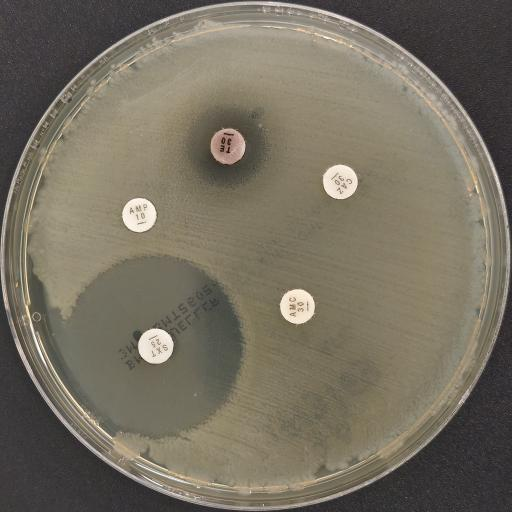disc: (210, 127, 246, 165), (322, 164, 358, 200), (138, 328, 174, 364), (280, 289, 315, 324), (122, 198, 157, 232)
